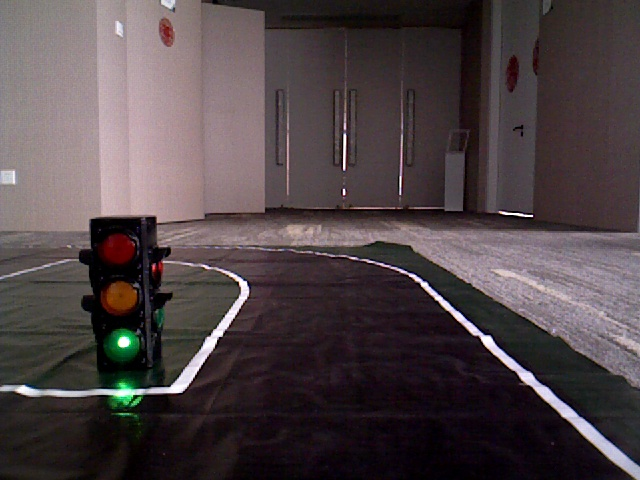green: (90, 222, 150, 370)
